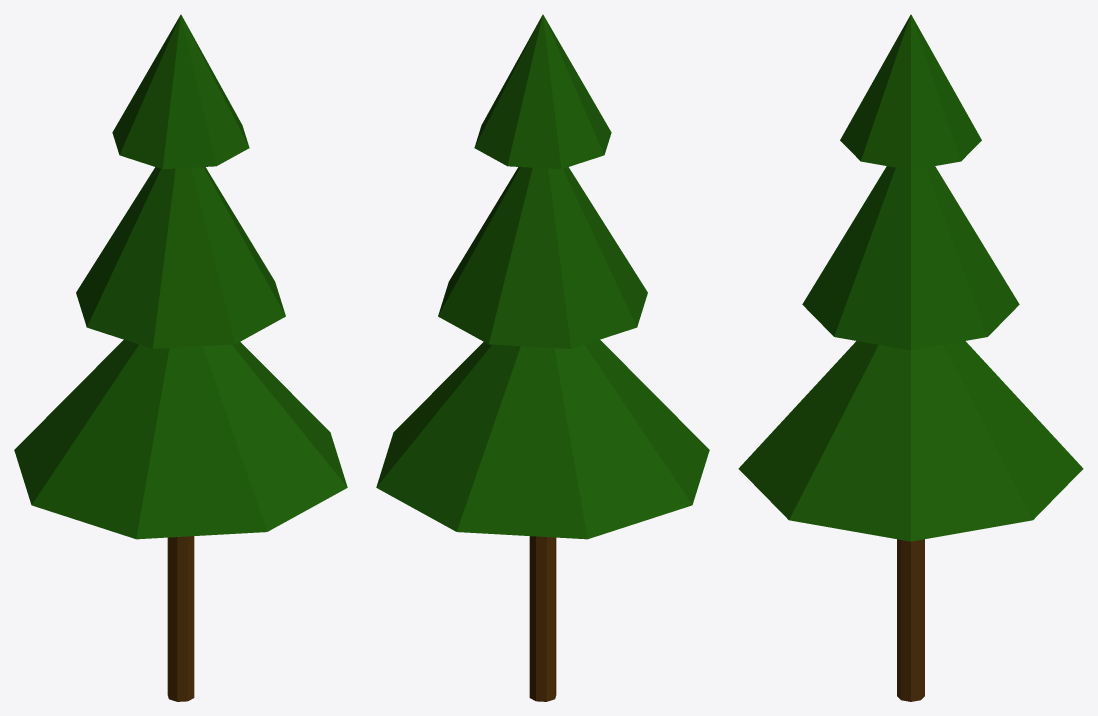
Rendered from tree1.fbx.
3 views of the same model, side by side, from view 1: azimuth 30°, elevation 25°; view 2: azimuth 150°, elevation 25°; view 3: azimuth 270°, elevation 25° (orthographic).
Visible parts, largest first — view 1: wood; view 2: wood; view 3: wood.
Part boxes in pixels (x1,y1,x2,y2): wood: (14,14,347,701); wood: (376,14,709,701); wood: (738,14,1083,701).
Bounding box in the file's own units: 2.48 × 5.4 × 2.48.
